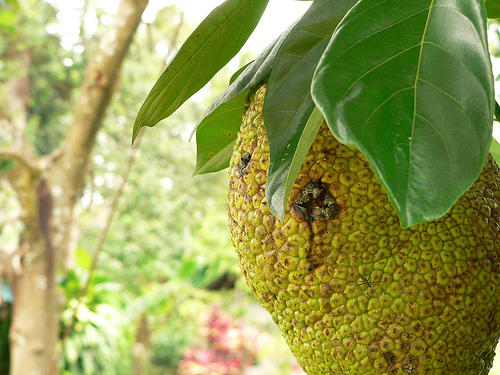jackfruit: (226, 65, 499, 374)
